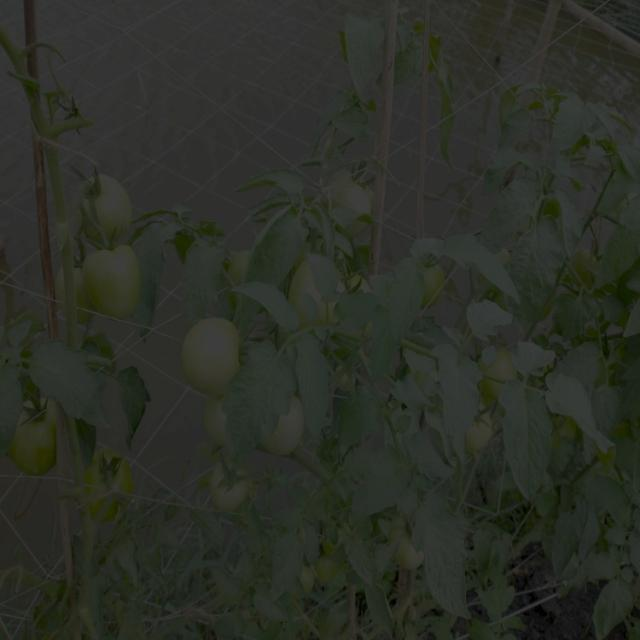tomato: (182, 316, 241, 391), (73, 174, 128, 247), (15, 396, 62, 479), (88, 249, 145, 314), (336, 162, 376, 216), (208, 463, 252, 511), (271, 403, 312, 454), (283, 268, 321, 317), (90, 451, 130, 497), (68, 263, 96, 327), (208, 394, 235, 455), (423, 261, 452, 312), (472, 410, 496, 454), (399, 536, 427, 572), (302, 561, 321, 599)
